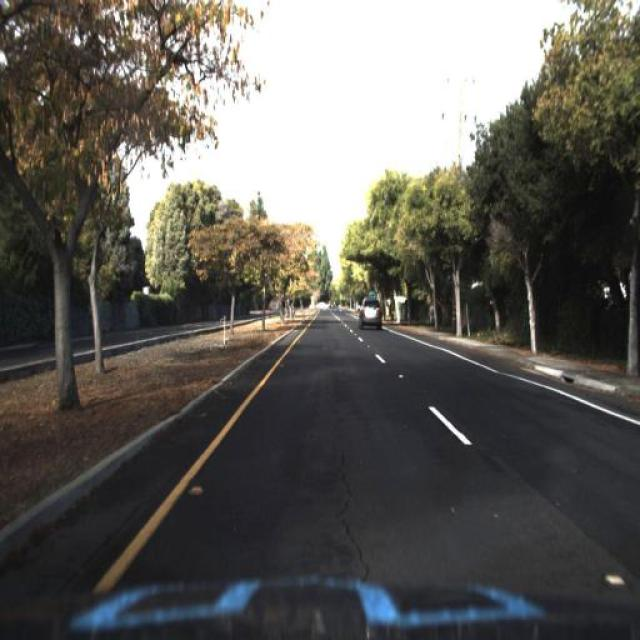car: (355, 294, 387, 331)
